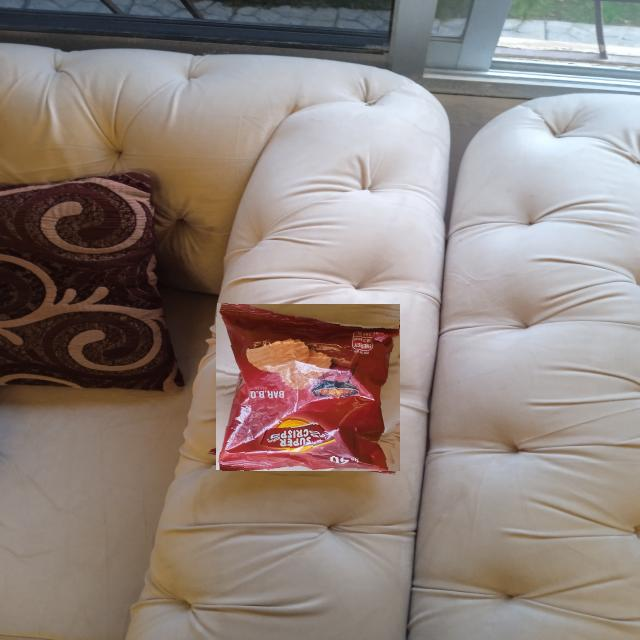Plastic: (216, 304, 400, 472)
